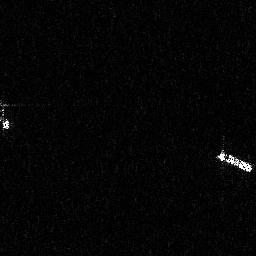ship: (213, 147, 253, 174)
